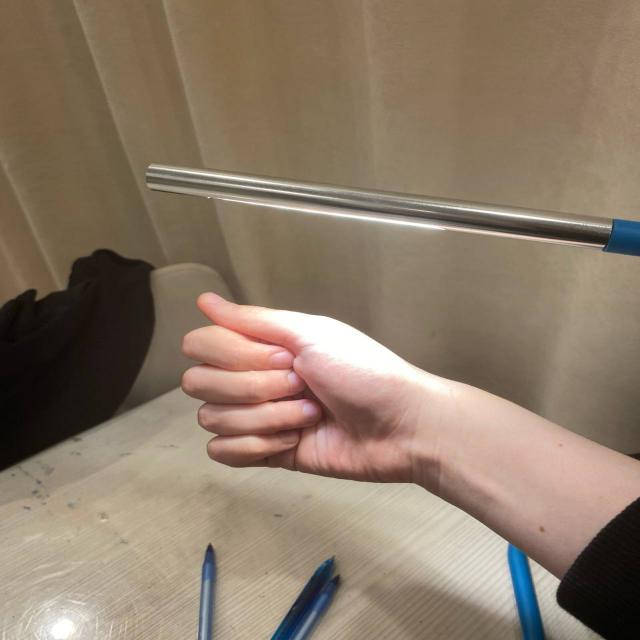a: (160, 277, 444, 495)
